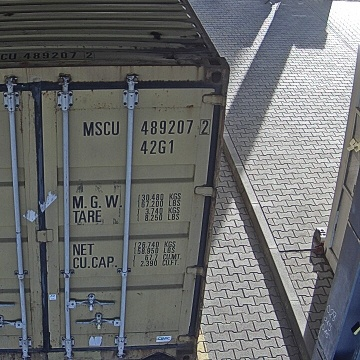serial_id: (83, 120, 208, 135)
